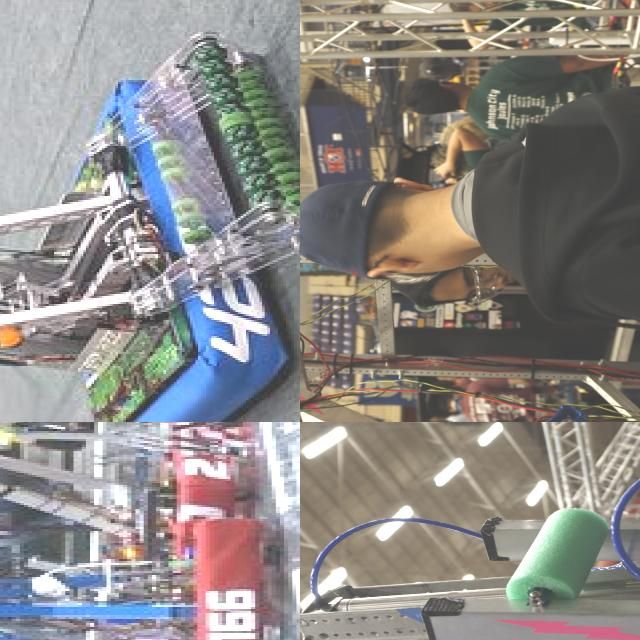FRC-Robots: (0, 15, 300, 422), (300, 186, 640, 422), (300, 427, 640, 640), (0, 422, 273, 528), (0, 519, 236, 640)
